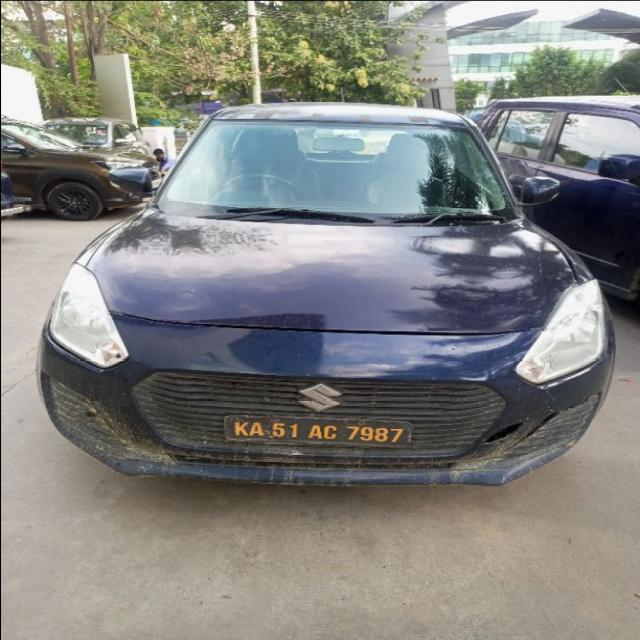license_plate: (222, 413, 414, 448)
